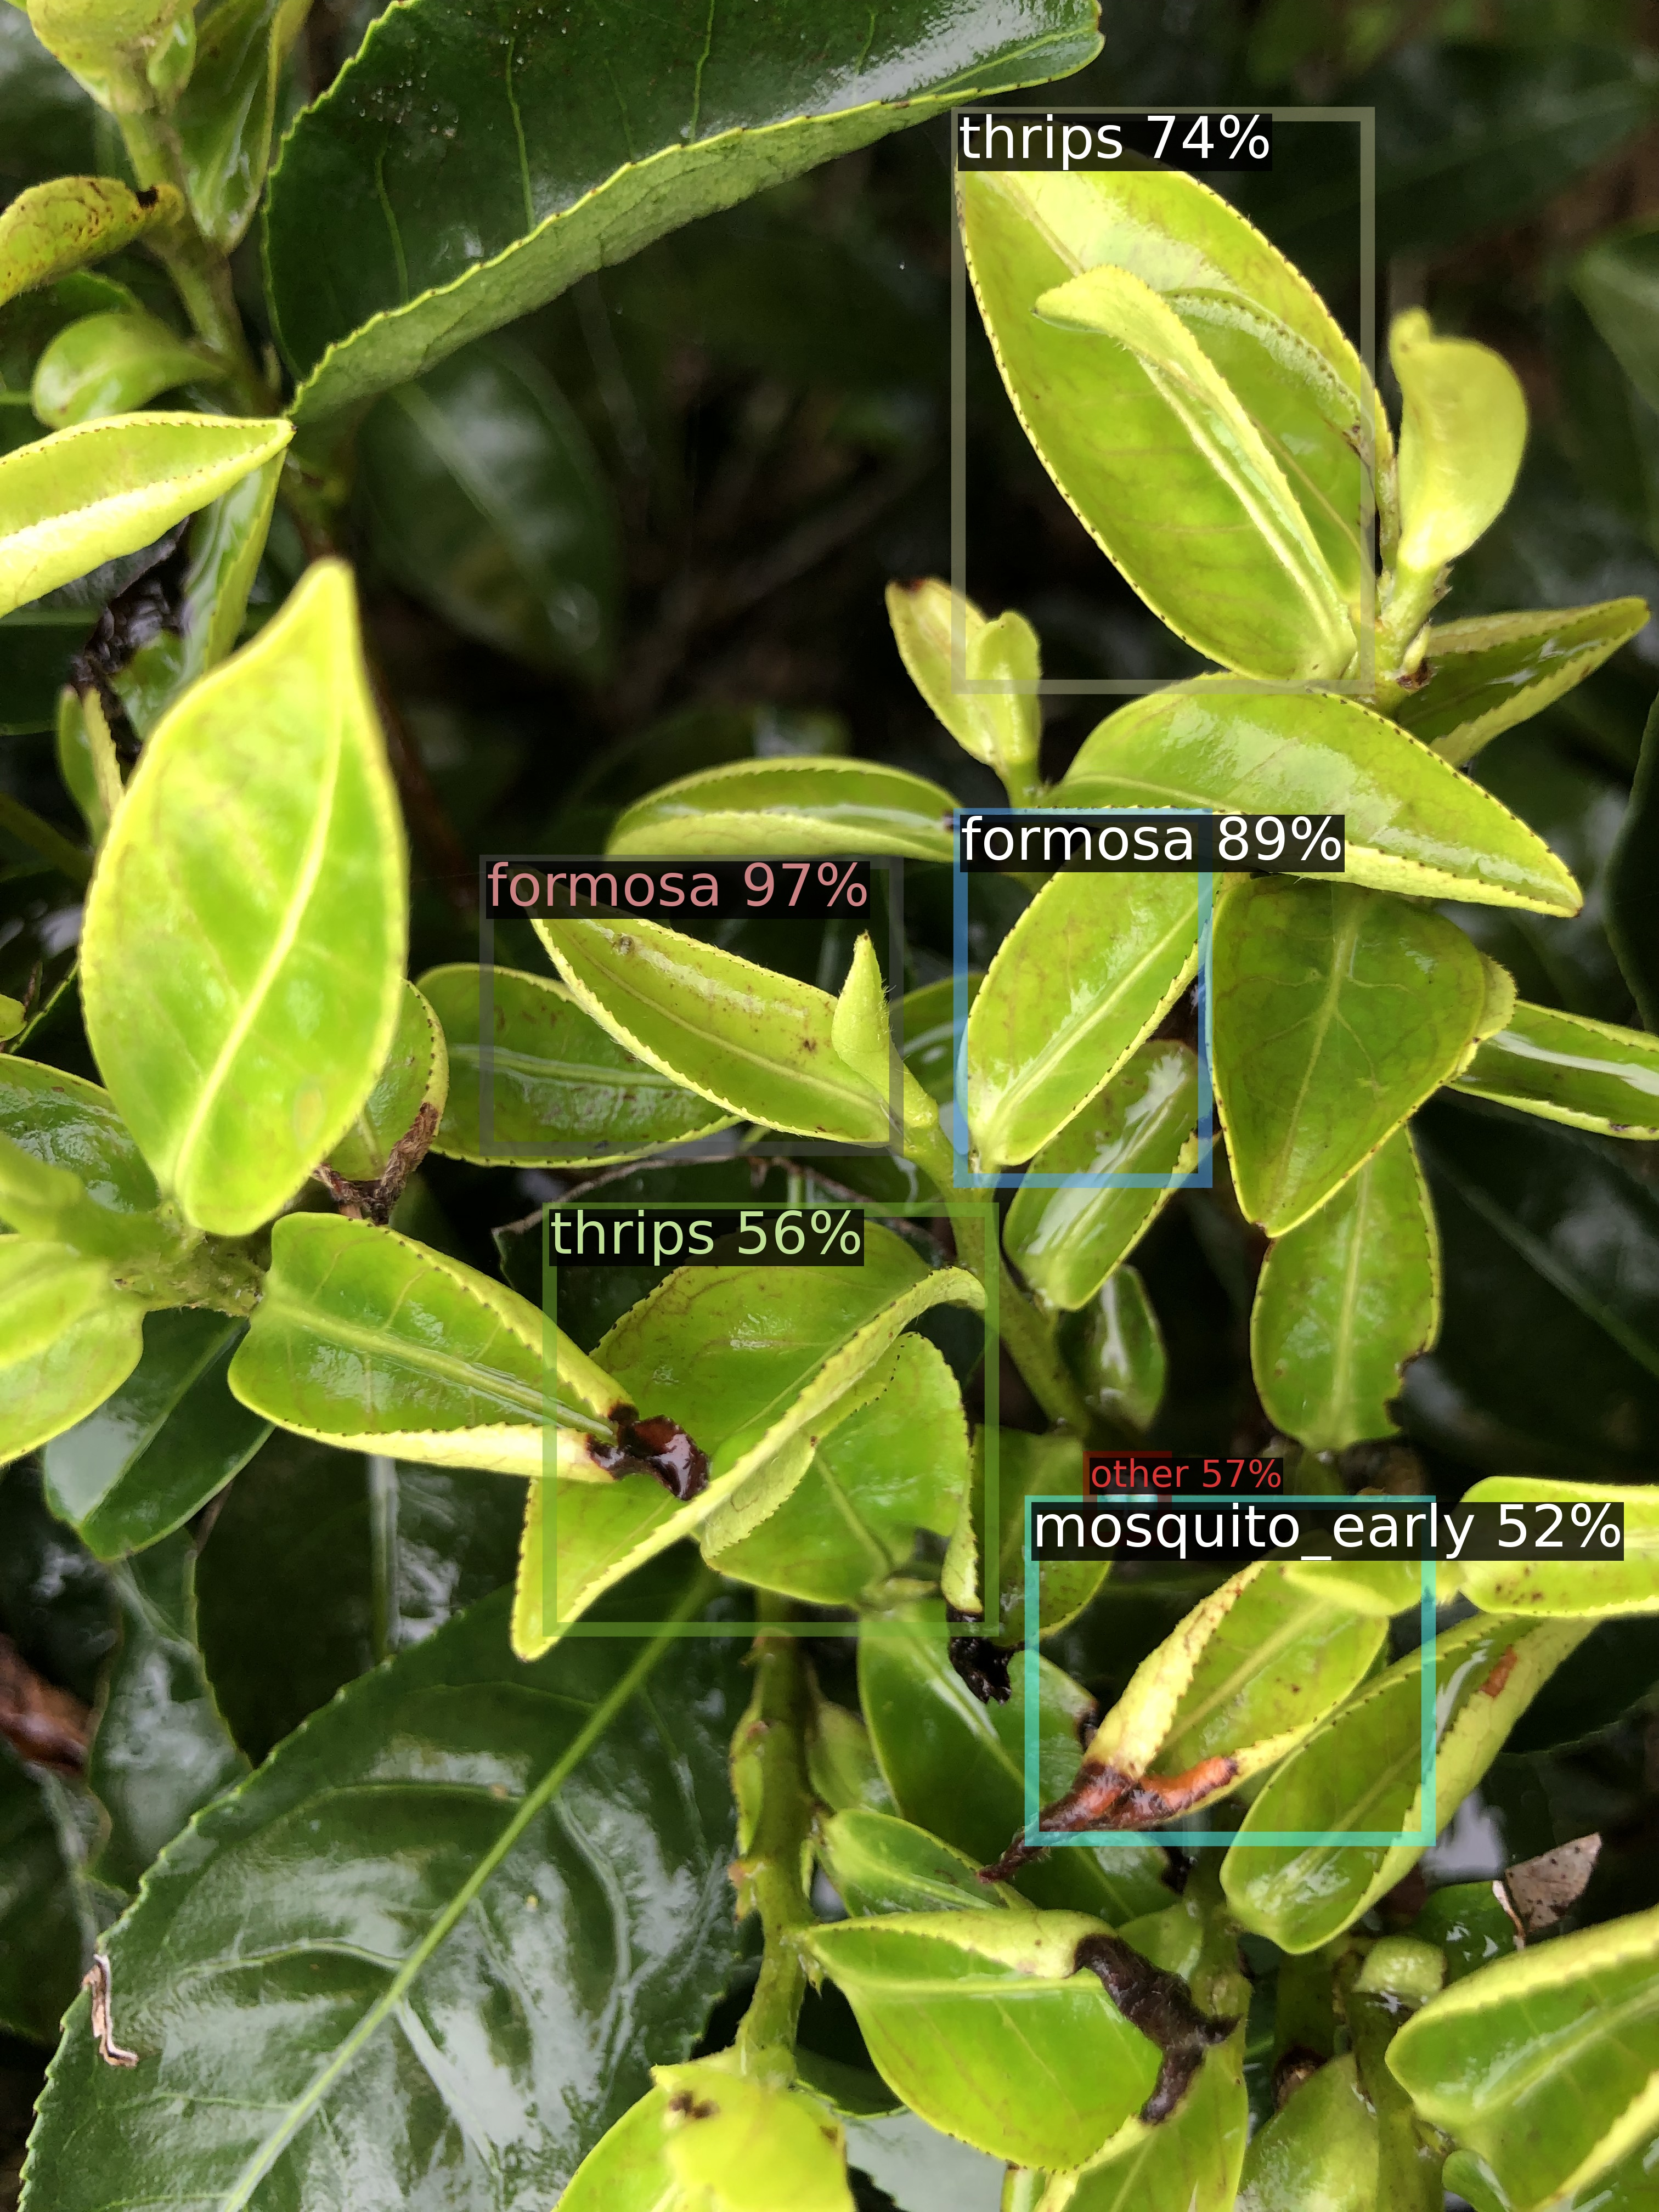formosa: (486, 862, 896, 1150), (960, 815, 1204, 1181)
mosquito_early: (1032, 1501, 1427, 1839)
other: (1089, 1458, 1164, 1538)
thrips: (958, 115, 1368, 686), (549, 1211, 992, 1629)
